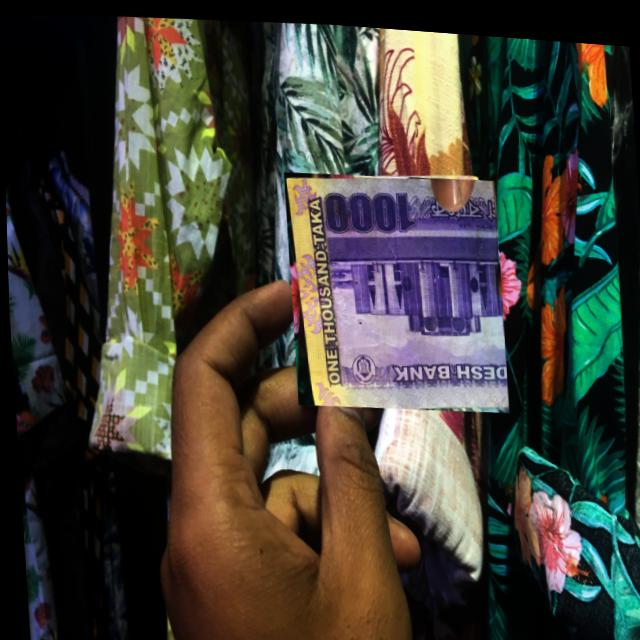Taka: (282, 160, 507, 412)
